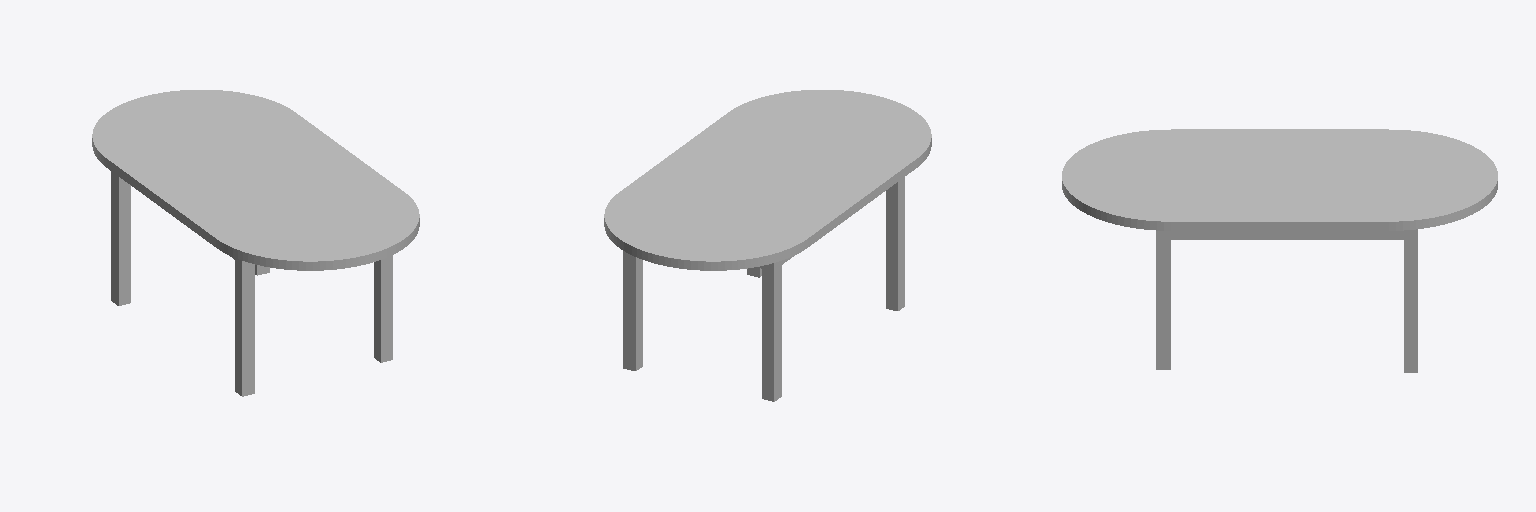
Rendered from normaloval.obj.
3 views of the same model, side by side, from view 1: azimuth 30°, elevation 25°; view 2: azimuth 150°, elevation 25°; view 3: azimuth 270°, elevation 25° (orthographic).
Parts seen in each view (by area): view 1: Mesh01_Group1, Mesh02; view 2: Mesh01_Group1, Mesh02; view 3: Mesh01_Group1, Mesh02.
Part boxes in pixels (bbox=[...]): Mesh01_Group1: bbox=[92, 90, 419, 270]; Mesh02: bbox=[111, 171, 392, 396]; Mesh01_Group1: bbox=[604, 90, 931, 270]; Mesh02: bbox=[623, 177, 904, 401]; Mesh01_Group1: bbox=[1062, 129, 1497, 230]; Mesh02: bbox=[1156, 229, 1417, 372].
Size of the model in its own units: 3 by 2.44 by 6.